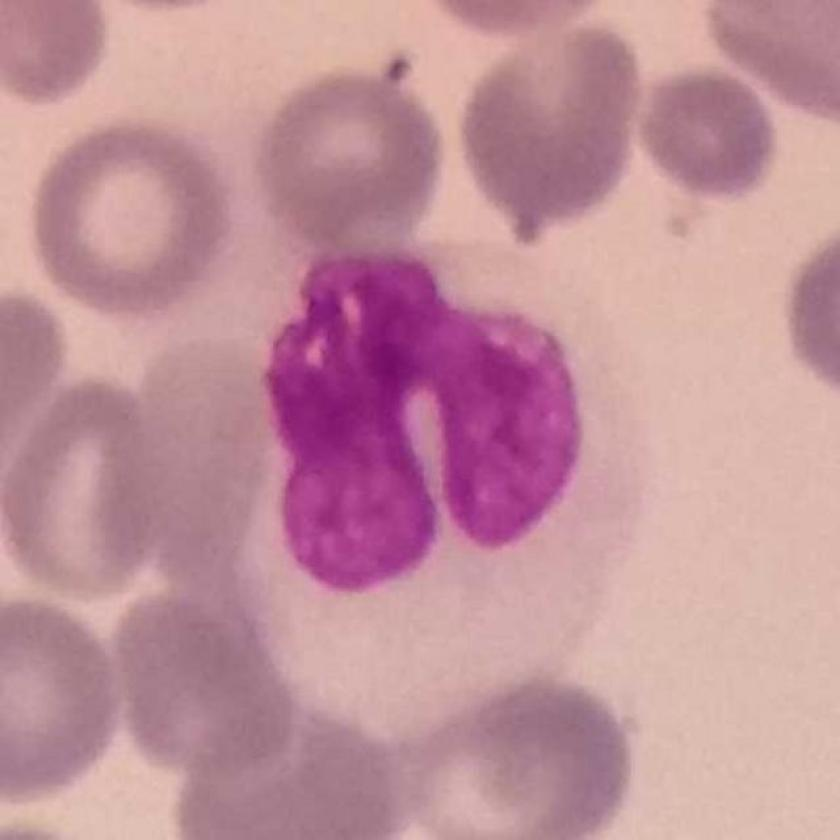monocyte: (246, 232, 648, 744)
